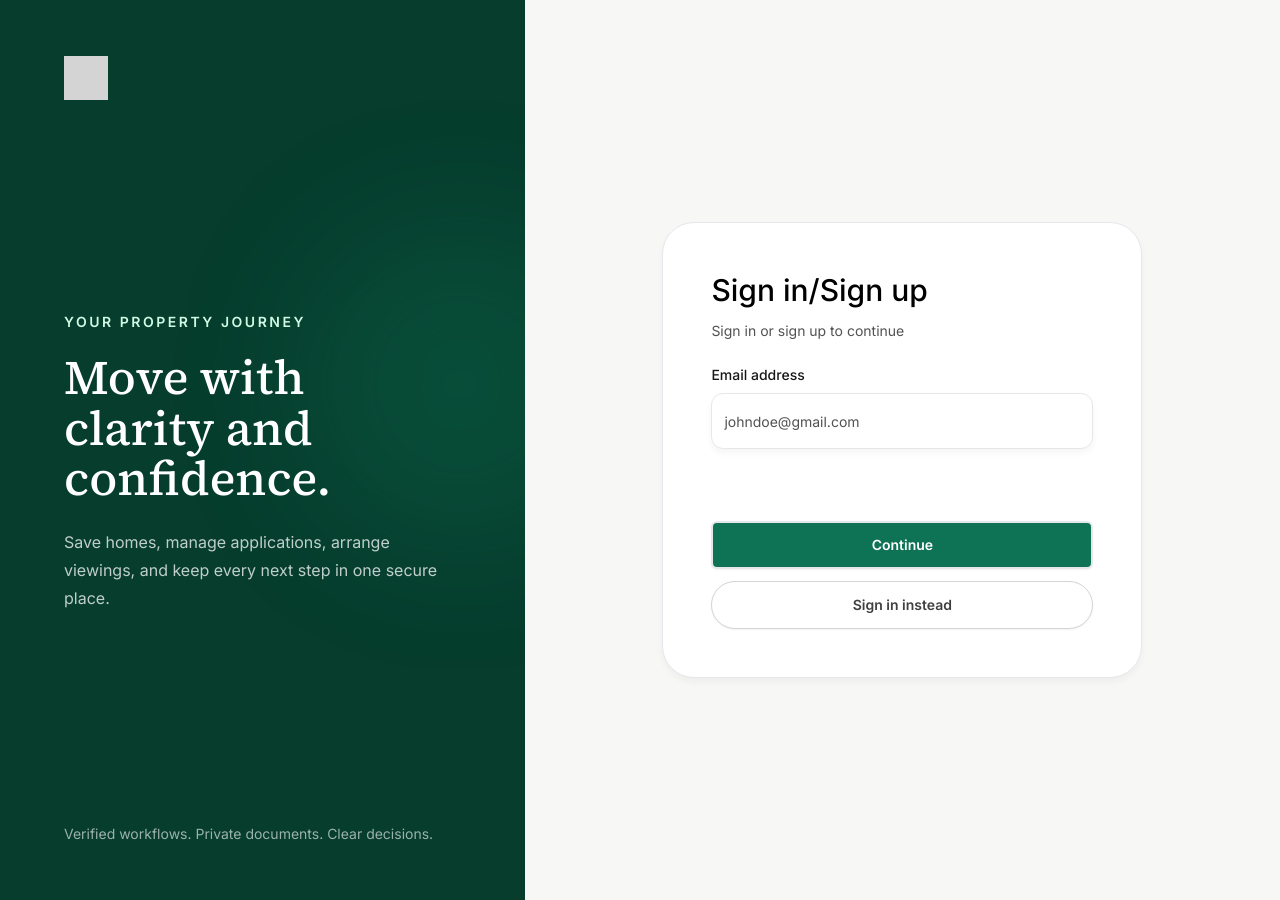
Test case: SignUpPage › validates required details before registration
This screenshot has width=1280, height=900.
In the field labelled "Email address": (902, 421) left=711, top=393, right=1093, bottom=449, type "ada@example.com"
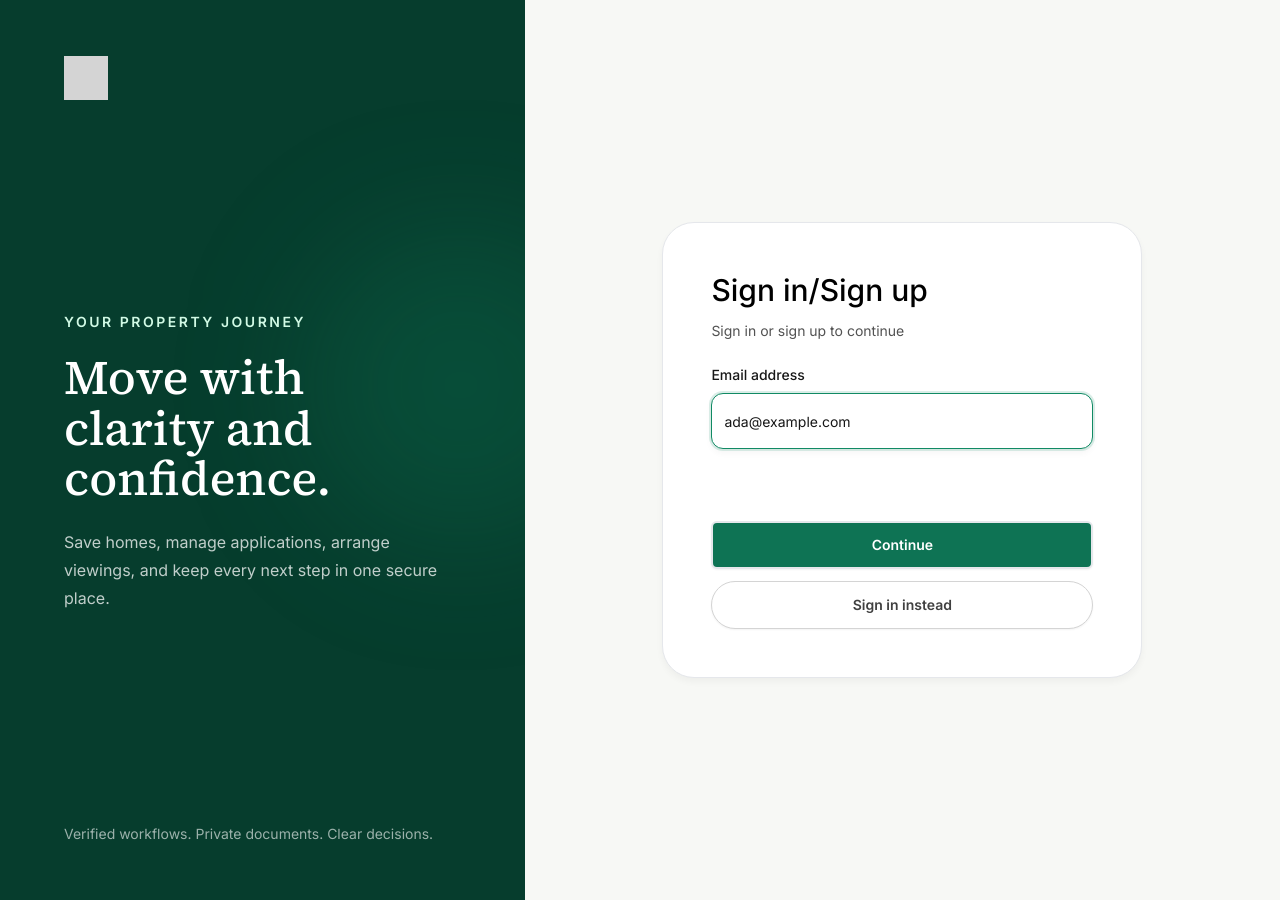
Click the button "Continue": (902, 545) left=711, top=521, right=1093, bottom=569
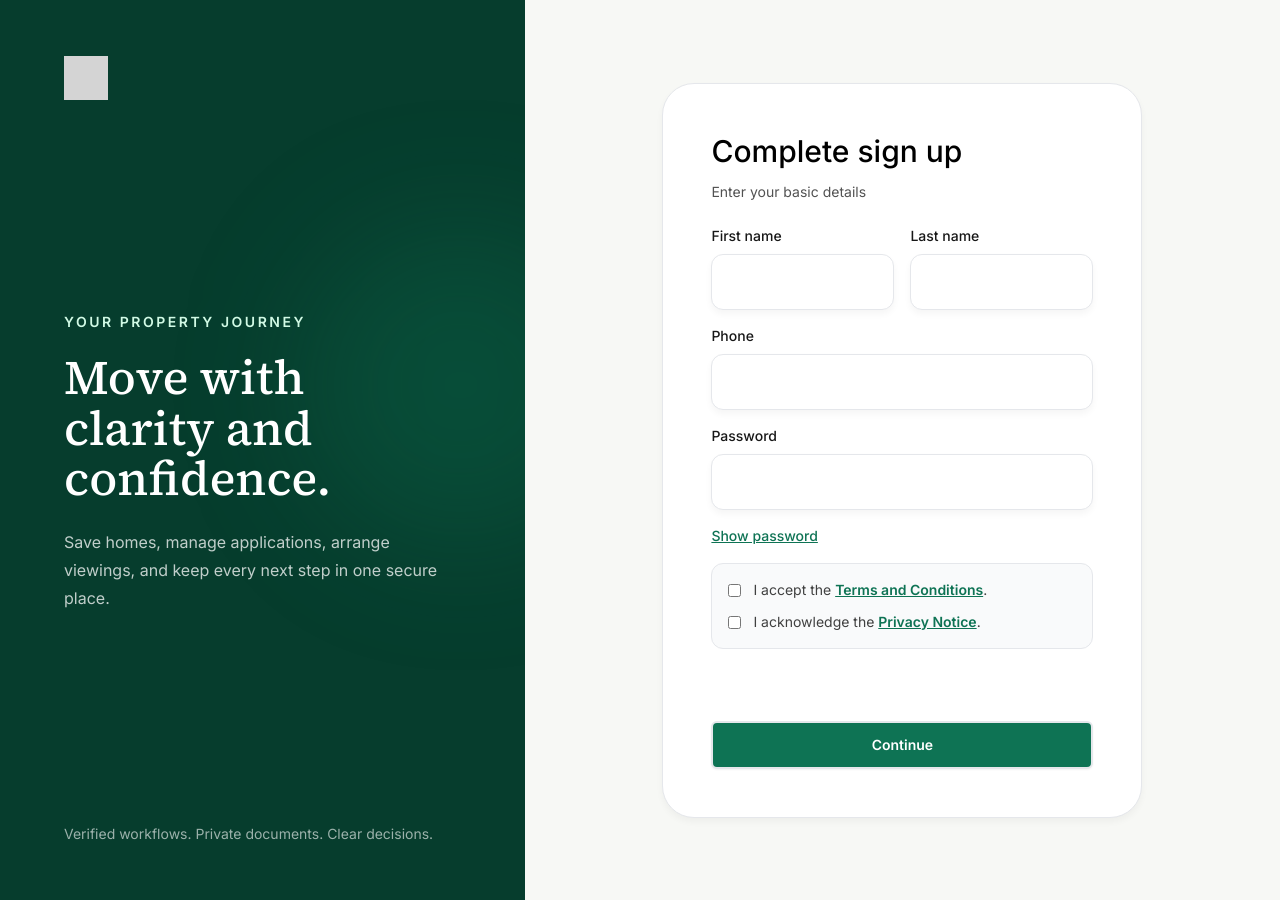
Click the button "Continue": (902, 744) left=711, top=720, right=1093, bottom=768
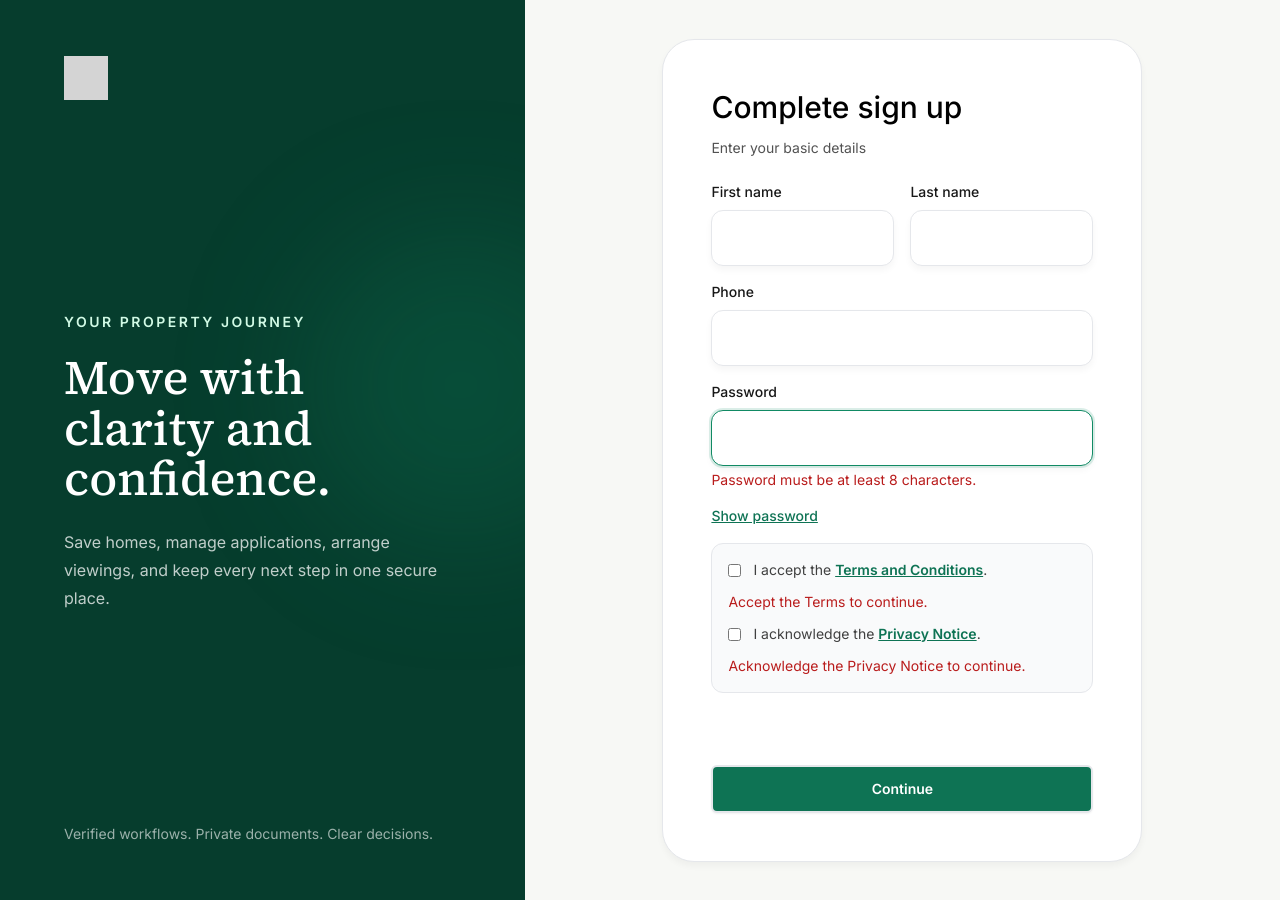
Check: the text "Password must be at least 8 characters." is shown, box left=711, top=470, right=976, bottom=488
Check: the text "Accept the Terms to continue." is shown, box left=728, top=592, right=928, bottom=610
Check: the text "Acknowledge the Privacy Notice to continue." is shown, box left=728, top=656, right=1076, bottom=676
